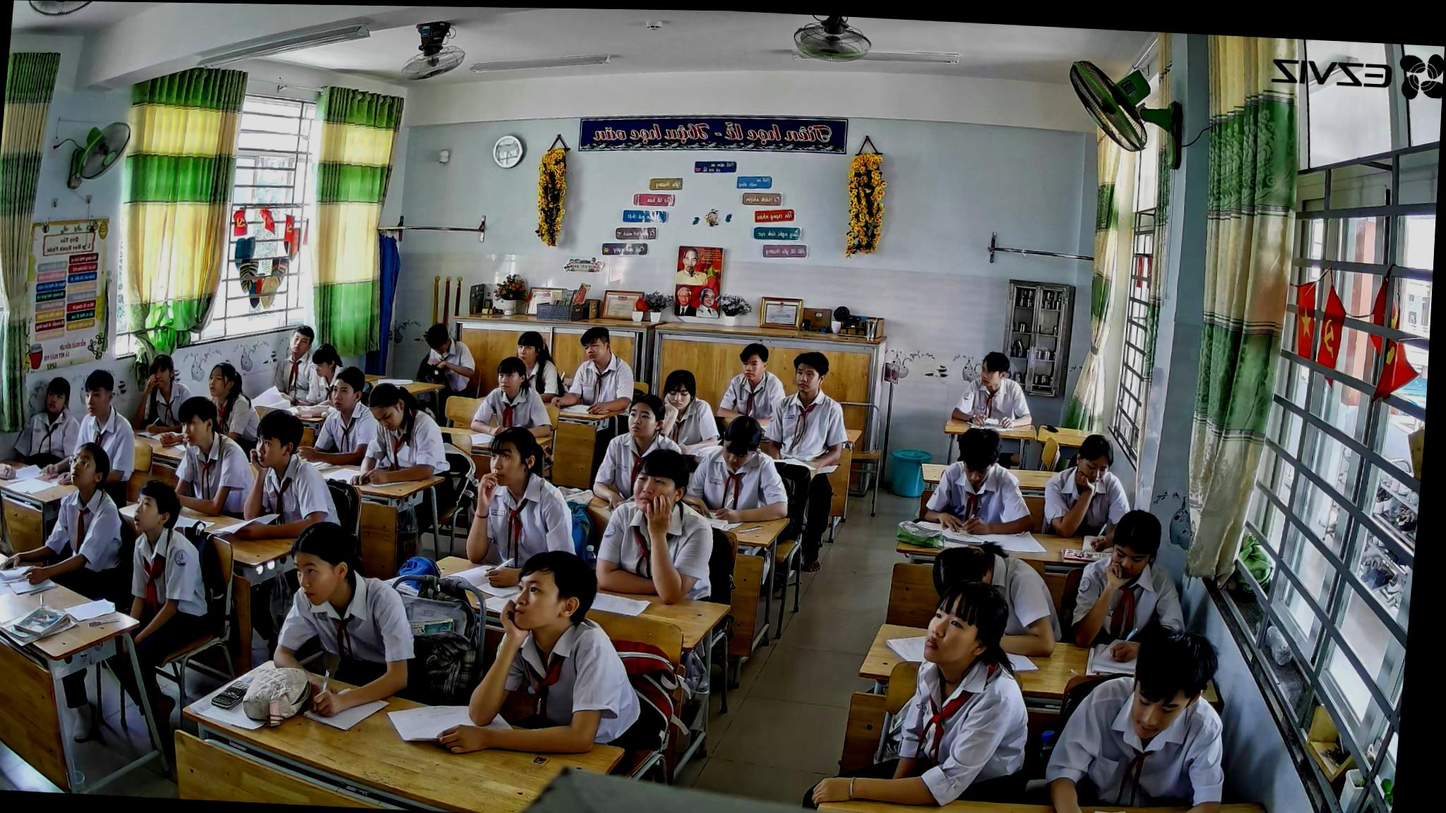person: (803, 574, 1042, 813), (436, 546, 658, 760), (1039, 623, 1237, 813), (265, 520, 437, 723), (101, 479, 225, 732), (442, 423, 588, 595), (0, 438, 141, 612), (750, 350, 857, 574), (592, 446, 725, 606), (1066, 507, 1195, 668), (925, 540, 1069, 658), (229, 409, 347, 546), (37, 367, 145, 505), (917, 425, 1041, 539), (679, 415, 800, 527), (348, 382, 457, 492), (1037, 433, 1136, 554), (169, 395, 262, 520), (590, 393, 689, 507), (159, 359, 265, 450), (294, 365, 385, 468), (552, 325, 639, 420), (467, 354, 561, 440), (713, 342, 792, 437), (949, 349, 1039, 431), (9, 375, 87, 469), (655, 369, 725, 459), (131, 352, 199, 438), (408, 322, 480, 398), (289, 341, 348, 408), (513, 330, 569, 400), (271, 323, 317, 401)
